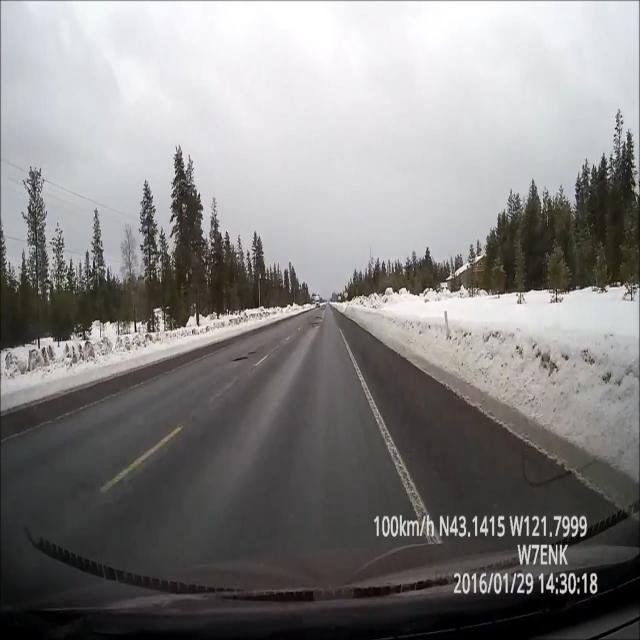Pothole: (228, 348, 256, 364), (306, 310, 323, 330)
